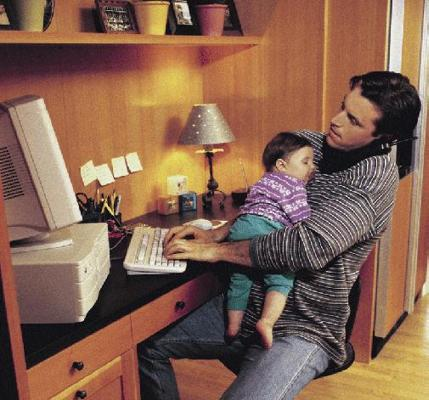person: (138, 71, 422, 400)
